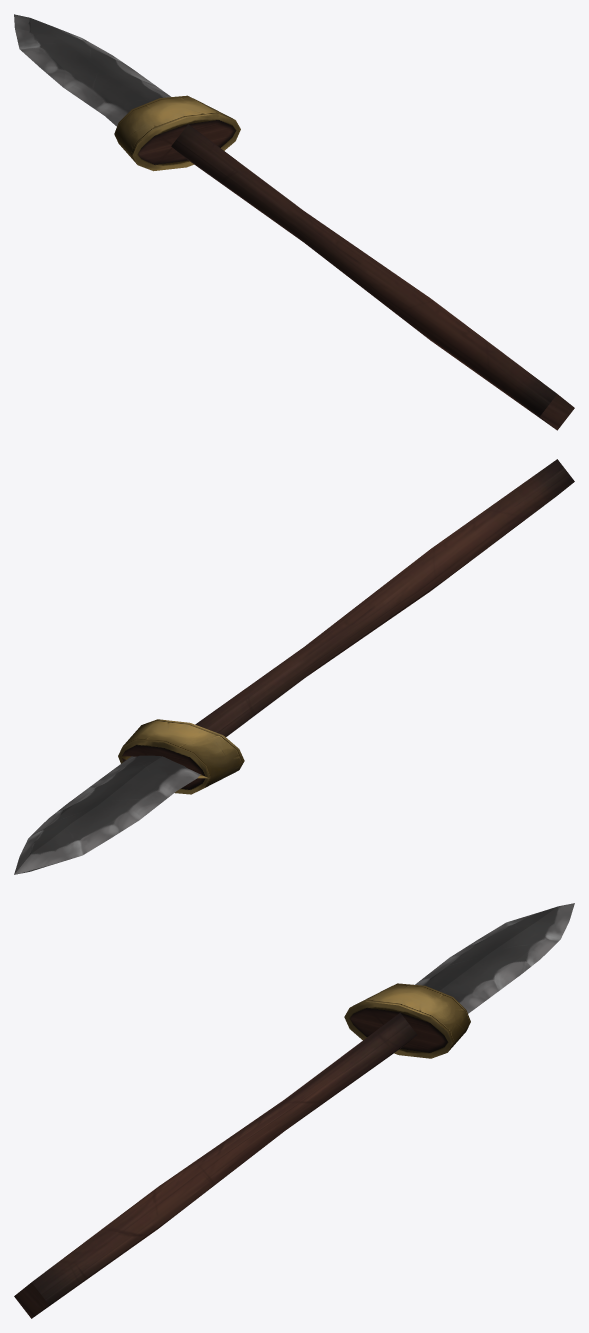
The model's file is Spear.FBX.
3 renders of one model, top to bottom at view 1: azimuth 30°, elevation 25°; view 2: azimuth 150°, elevation 25°; view 3: azimuth 330°, elevation 25°, orthographic.
Visible parts, largest first — view 1: Box026; view 2: Box026; view 3: Box026.
Part boxes in pixels (x1,y1,x2,y2): Box026: (14,14,574,430); Box026: (14,459,574,874); Box026: (14,903,574,1318).
Size of the model in its own units: 36.1 by 15.79 by 313.
